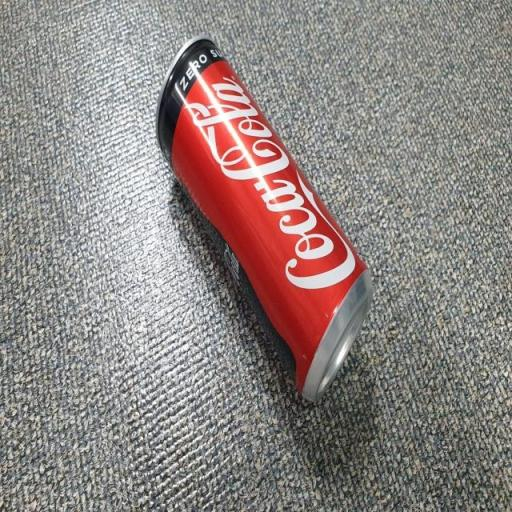metal: (146, 2, 386, 448)
